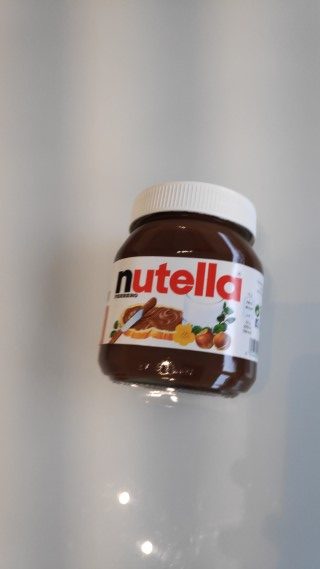nutella: (95, 180, 266, 401)
